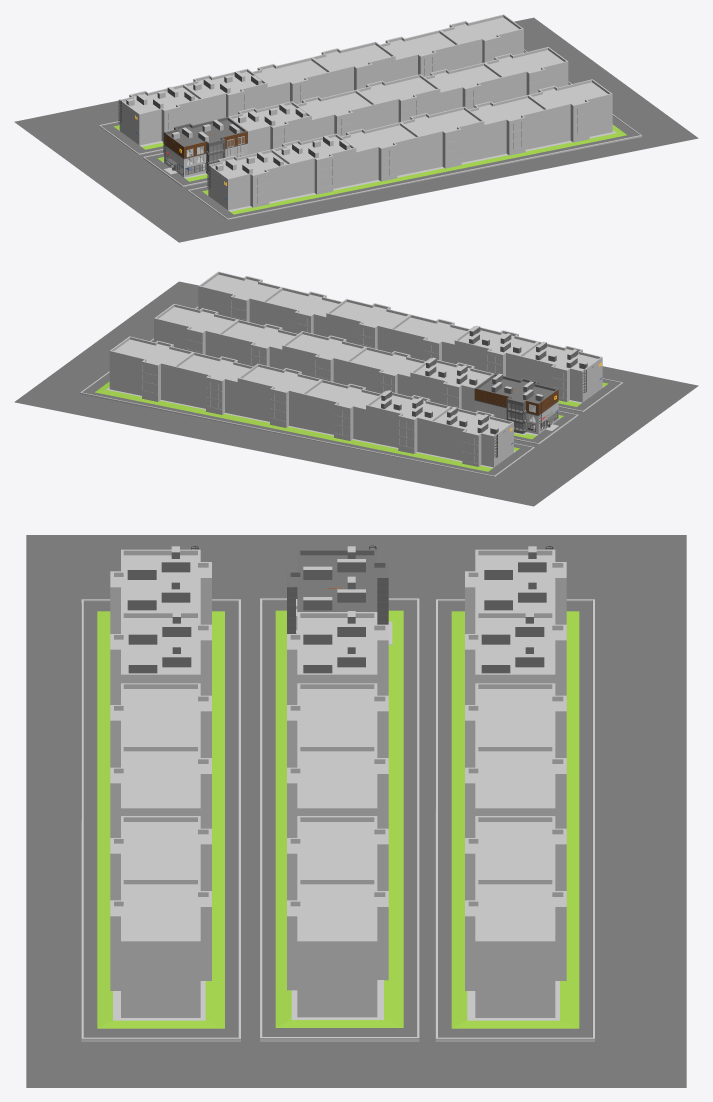
Rendered from Tsarevo.glb.
3 views of the same model, one above another, from view 1: azimuth 30°, elevation 25°; view 2: azimuth 150°, elevation 25°; view 3: azimuth 270°, elevation 25° (orthographic). The views are drawn at different scales.
Visible parts, largest first — view 1: World, AsphaltThree, otherhouse.016, otherhouse.011, otherhouse.014, otherhouse.015, otherhouse.013, otherhouse, otherhouse.012, otherhouse.003, otherhouse.005, otherhouse.008 (+10 smaller); view 2: World, AsphaltTwo, otherhouse.005, otherhouse.003, otherhouse, otherhouse.004, otherhouse.002, otherhouse.011, otherhouse.001, MainHouse, otherhouse.010, otherhouse.008 (+10 smaller); view 3: World, AsphaltOne, AsphaltThree, AsphaltTwo, otherhouse.005, otherhouse.010, otherhouse.016, otherhouse.003, otherhouse.008, otherhouse.014, otherhouse.002, otherhouse.007 (+10 smaller).
Boxes of the visible parts, left/top/right/bottom form: World: left=14, top=17, right=698, bottom=242; AsphaltThree: left=187, top=114, right=641, bottom=219; otherhouse.016: left=529, top=79, right=612, bottom=144; otherhouse.011: left=208, top=149, right=292, bottom=210; otherhouse.014: left=400, top=106, right=484, bottom=171; otherhouse.015: left=469, top=95, right=548, bottom=157; otherhouse.013: left=341, top=122, right=420, bottom=184; otherhouse: left=119, top=84, right=203, bottom=145; otherhouse.012: left=272, top=133, right=356, bottom=197; otherhouse.003: left=312, top=41, right=395, bottom=95; otherhouse.005: left=440, top=14, right=523, bottom=68; otherhouse.008: left=356, top=74, right=440, bottom=127; World: left=14, top=281, right=698, bottom=506; AsphaltTwo: left=80, top=371, right=534, bottom=476; otherhouse.005: left=109, top=336, right=192, bottom=402; otherhouse.003: left=237, top=363, right=321, bottom=428; otherhouse: left=430, top=406, right=513, bottom=467; otherhouse.004: left=173, top=352, right=253, bottom=415; otherhouse.002: left=302, top=379, right=380, bottom=441; otherhouse.011: left=518, top=341, right=602, bottom=402; otherhouse.001: left=366, top=390, right=449, bottom=454; MainHouse: left=474, top=373, right=558, bottom=434; otherhouse.010: left=154, top=304, right=237, bottom=357; otherhouse.008: left=282, top=331, right=365, bottom=384; World: left=26, top=535, right=686, bottom=1087; AsphaltOne: left=260, top=598, right=419, bottom=1041; AsphaltThree: left=81, top=599, right=240, bottom=1041; AsphaltTwo: left=435, top=599, right=594, bottom=1041; otherhouse.005: left=465, top=878, right=566, bottom=1017; otherhouse.010: left=287, top=878, right=388, bottom=1017; otherhouse.016: left=110, top=878, right=211, bottom=1017; otherhouse.003: left=465, top=745, right=566, bottom=837; otherhouse.008: left=287, top=745, right=388, bottom=837; otherhouse.014: left=110, top=745, right=211, bottom=837; otherhouse.002: left=465, top=683, right=566, bottom=767; otherhouse.007: left=287, top=683, right=388, bottom=767.
Size of the model in its own units: 150 by 14.99 by 82.73.
17 materials, 4 textured.
